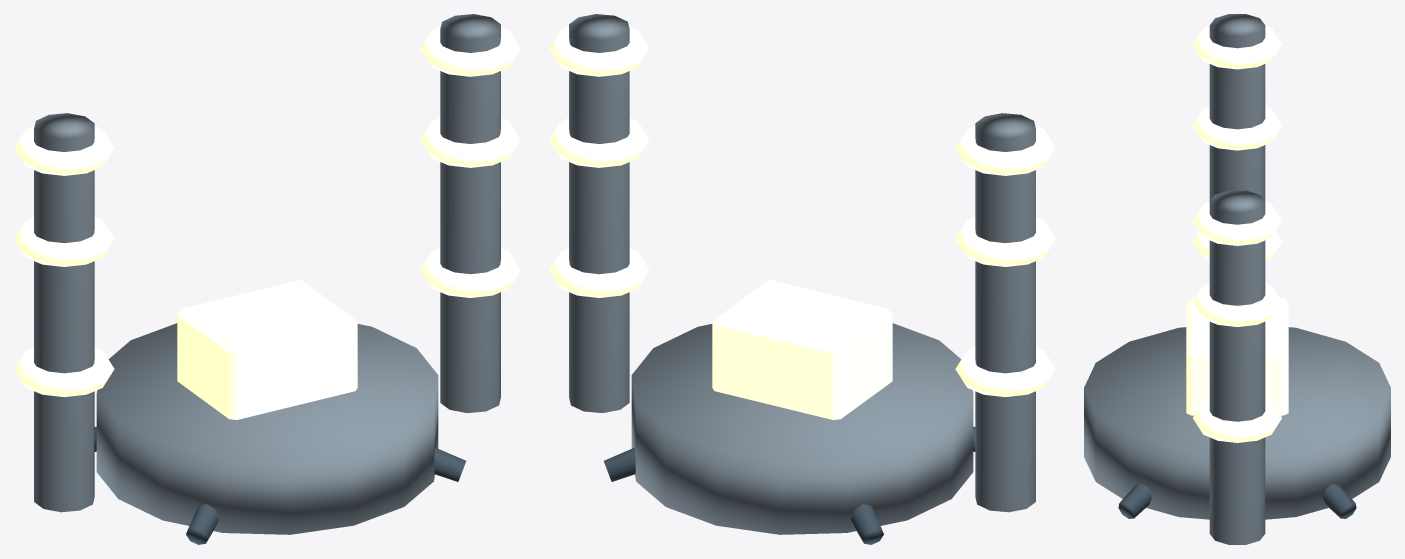
File: shockFence.glb
3 views of the same model, side by side, from view 1: azimuth 30°, elevation 25°; view 2: azimuth 150°, elevation 25°; view 3: azimuth 270°, elevation 25° (orthographic). The views are drawn at different scales.
Parts seen in each view (by area): view 1: deployment_base_1, power_cell_14, electrode_6, electrode_10, insulator_13, insulator_11, insulator_9, insulator_12, insulator_7, insulator_8, tripod_2, tripod_4; view 2: deployment_base_1, power_cell_14, electrode_6, electrode_10, insulator_13, insulator_11, insulator_9, insulator_12, insulator_7, insulator_8, tripod_3, tripod_5; view 3: deployment_base_1, electrode_10, electrode_6, power_cell_14, insulator_8, insulator_11, insulator_13, insulator_12, insulator_9, tripod_4, tripod_5, insulator_7.
Boxes of the visible parts, x1,y1,x2,y2 form: deployment_base_1: (96,323,438,534); power_cell_14: (177,279,357,419); electrode_6: (34,113,94,512); electrode_10: (440,14,500,412); insulator_13: (420,26,520,76); insulator_11: (420,248,520,297); insulator_9: (14,125,114,175); insulator_12: (420,118,520,167); insulator_7: (14,347,114,397); insulator_8: (14,217,114,266); tripod_2: (186,504,218,544); tripod_4: (434,448,465,481); deployment_base_1: (631,323,973,534); power_cell_14: (712,279,892,419); electrode_6: (975,113,1035,512); electrode_10: (569,14,629,412); insulator_13: (549,26,649,76); insulator_11: (549,248,649,297); insulator_9: (955,125,1055,175); insulator_12: (549,118,649,167); insulator_7: (955,347,1055,397); insulator_8: (955,217,1055,266); tripod_3: (851,504,883,544); tripod_5: (604,448,635,481); deployment_base_1: (1084,327,1390,519); electrode_10: (1209,190,1265,544); electrode_6: (1209,14,1265,201); power_cell_14: (1186,298,1288,415); insulator_8: (1193,106,1281,150); insulator_11: (1193,398,1281,442); insulator_13: (1193,201,1281,245); insulator_12: (1193,283,1281,326); insulator_9: (1193,25,1281,69); tripod_4: (1118,484,1151,518); tripod_5: (1323,484,1356,518); insulator_7: (1193,231,1281,260).
Size of the model in its own units: 1.19 by 0.9037 by 0.72.
